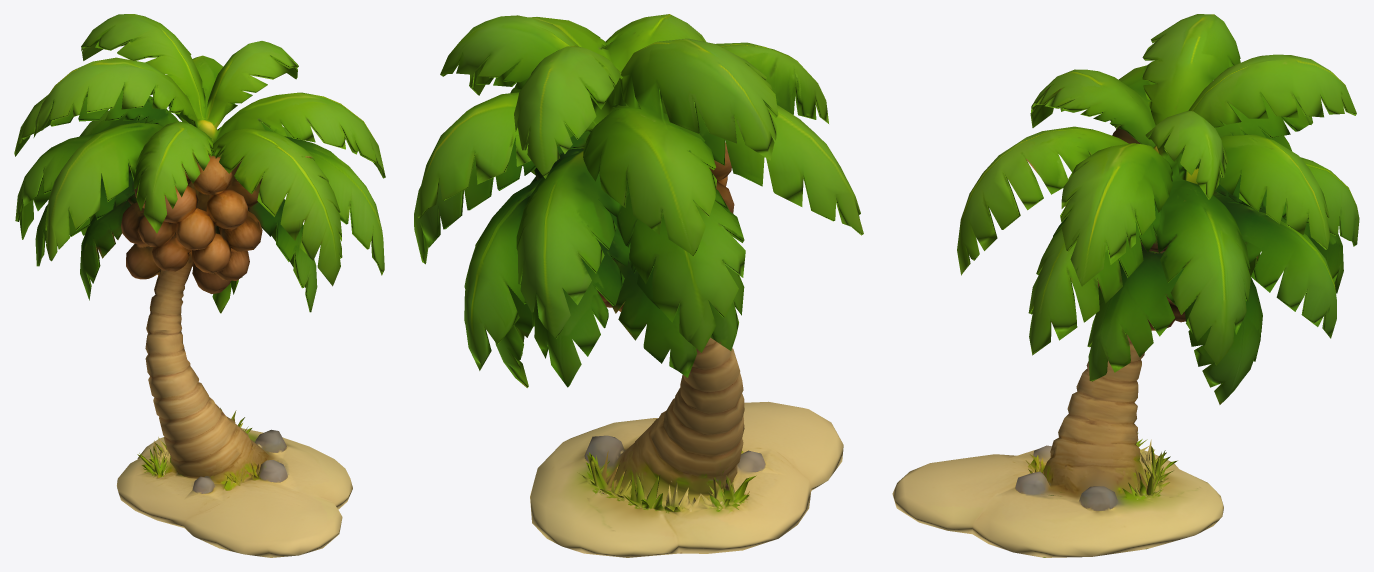
Rendered from palm.glb.
The picture shows the model from 3 angles, left to right: view 1: azimuth 30°, elevation 25°; view 2: azimuth 150°, elevation 25°; view 3: azimuth 270°, elevation 25°; orthographic projection. The views are drawn at different scales.
Parts seen in each view (by area): view 1: Coconut-Laden Palm; view 2: Coconut-Laden Palm; view 3: Coconut-Laden Palm.
Part boxes in pixels (x1,y1,x2,y2): Coconut-Laden Palm: (14, 14, 385, 557); Coconut-Laden Palm: (414, 14, 863, 557); Coconut-Laden Palm: (892, 14, 1359, 557).
Bounding box in the file's own units: 5.65 × 6.88 × 6.53.
Materials: 1 (1 with a texture image).
